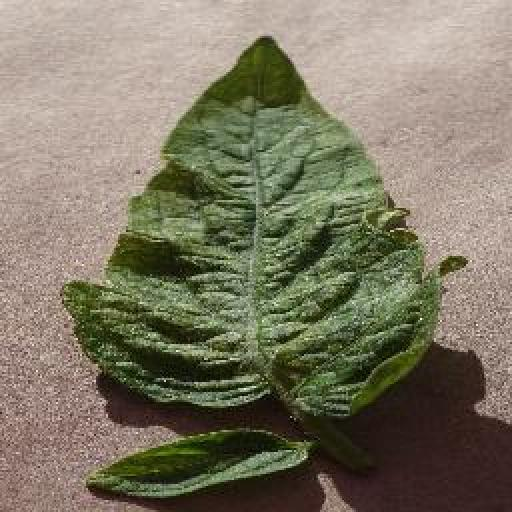Spider Mites: (56, 35, 443, 417)
